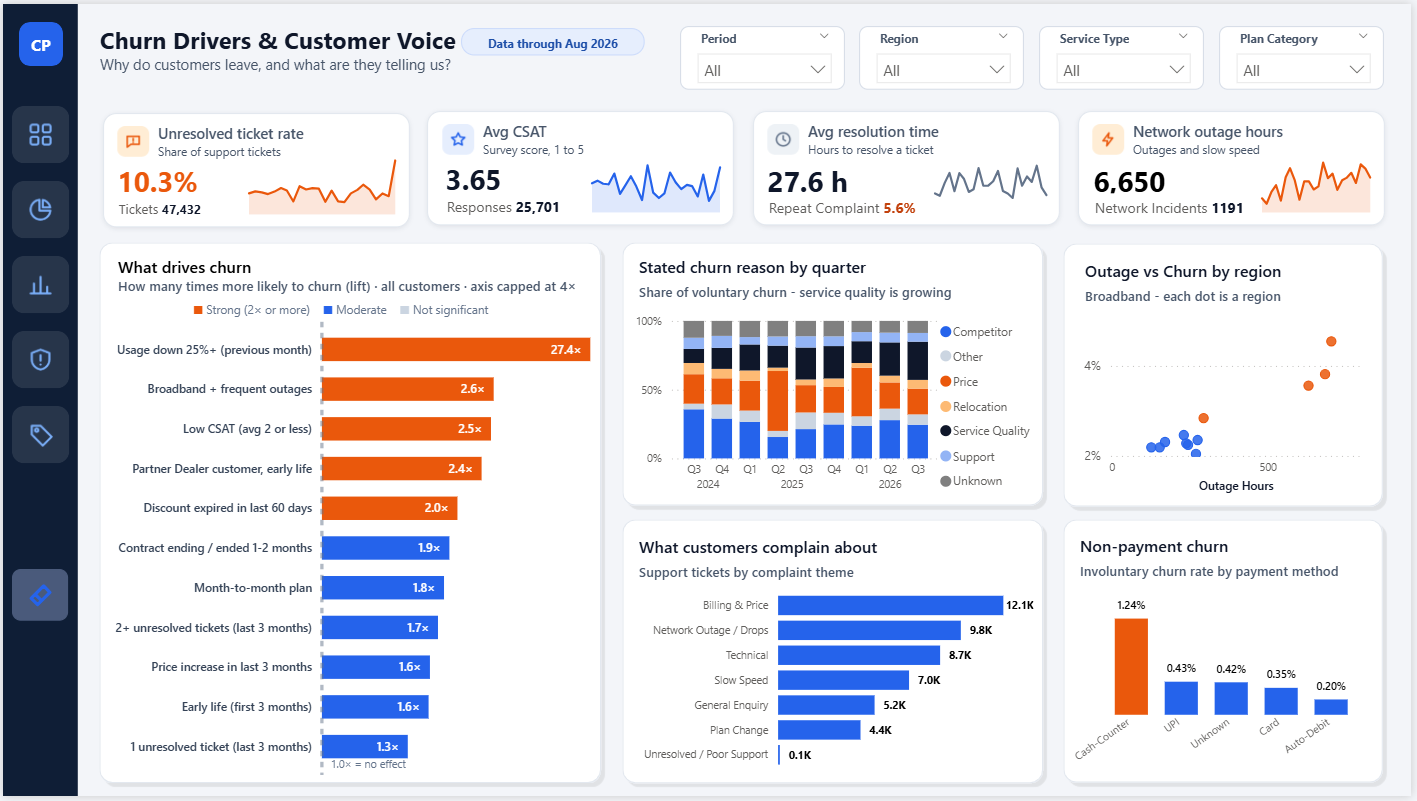

What the dashboard file says about the page in this screenshot:
{"tool":"powerbi","page":{"name":"Drivers","canvas":[1280,720],"ordinal":2},"visuals":[{"type":"group","id":"g1","title":"Group 3","box":[0,0,68,720],"z":0,"group":"g22"},{"type":"shape","box":[0,0,68,720],"z":0,"group":"g1"},{"type":"group","id":"g2","title":"Group 8","box":[557,211,394,251],"z":0,"group":"g17"},{"type":"group","id":"g3","title":"Group 8","box":[81.9,211.2,467.7,503.1],"z":0,"group":"g15"},{"type":"group","id":"g4","title":"Group 8","box":[958,212,302,251],"z":0,"group":"g19"},{"type":"group","id":"g5","title":"Group 8","box":[958.2,462.7,302,251],"z":0,"group":"g20"},{"type":"group","id":"g6","title":"Group 8","box":[557,463,394.1,251.5],"z":0,"group":"g16"},{"type":"shape","box":[14,16,40,40],"z":1000,"group":"g10"},{"type":"group","id":"g7","title":"Group 11","box":[88,17.9,495,50.3],"z":1000},{"type":"textbox","title":"Churn Drivers & Customer Voice","box":[88,17.9,328.2,30],"z":1000,"group":"g7"},{"type":"textbox","title":"What drives churn","box":[104.2,228.3,420,35.6],"z":1000,"group":"g15"},{"type":"slicer","fields":{"Values":["Customer_Priority.risk_band"]},"box":[615,20,150,58],"z":2000},{"type":"textbox","title":"Why do customers leave, and what are they telling us?","box":[88.2,46.4,380,21.8],"z":2000,"group":"g7"},{"type":"actionButton","box":[8,92,52,52],"z":2000,"group":"g9"},{"type":"textbox","title":"Stated churn reason by quater","box":[577.9,228.6,320,45],"z":2000,"group":"g17"},{"type":"clusteredBarChart","fields":{"Category":["Churn_Drivers.driver"],"Y":["_Measures.Driver Lift"]},"box":[101,281,433,420],"z":2000,"group":"g15"},{"type":"slicer","fields":{"Values":["Customer_Priority.region_name"]},"box":[778.4,20,150,58],"z":3000},{"type":"cardVisual","fields":{"Data":["_Measures.Badge Text"]},"box":[415.7,21.1,167.3,24.5],"z":3000,"group":"g7"},{"type":"actionButton","box":[8,160.2,52,52],"z":3000,"group":"g9"},{"type":"shape","box":[557,211,394,251],"z":3000,"group":"g2"},{"type":"shape","box":[81.9,211.2,467.7,503.1],"z":3000,"group":"g3"},{"type":"shape","box":[958,212,302,251],"z":3000,"group":"g4"},{"type":"textbox","title":"Outage vs Churn by region","box":[983,232,222.1,42.1],"z":3000,"group":"g19"},{"type":"shape","box":[958.2,462.7,302,251],"z":3000,"group":"g5"},{"type":"shape","box":[557,463,394.1,251.5],"z":3000,"group":"g6"},{"type":"textbox","title":"Non-payment churn","box":[978.8,481.4,241.5,43.1],"z":3000,"group":"g20"},{"type":"textbox","title":"What customers complain about","box":[577.7,483.1,320,45.4],"z":3000,"group":"g16"},{"type":"slicer","fields":{"Values":["Customer_Priority.service_type"]},"box":[941.9,20,150,58],"z":4000},{"type":"actionButton","box":[8,228.5,52,52],"z":4000,"group":"g9"},{"type":"hundredPercentStackedColumnChart","fields":{"Category":["Dim_Date.year_number","Dim_Date.quarter_label"],"Y":["_Measures.Churn Events"],"Series":["Dim_Churn_Reason.reason_category"]},"box":[574,279,368,172],"z":4000,"group":"g17"},{"type":"slicer","fields":{"Values":["Customer_Priority.plan_category"]},"box":[1105.3,20,150,58],"z":5000},{"type":"actionButton","box":[8,296.8,52,52],"z":5000,"group":"g9"},{"type":"group","id":"g8","title":"Group 4","box":[87.9,99.3,281.4,108.6],"z":6000},{"type":"actionButton","box":[8,365,52,52],"z":6000,"group":"g9"},{"type":"group","id":"g9","title":"Group 1","box":[8,92,52,325],"z":6001,"group":"g10"},{"type":"group","id":"g10","title":"Group 2","box":[8,16,52,401],"z":6002,"group":"g1"},{"type":"group","id":"g11","title":"Group 4","box":[385.6,97.3,279,108.7],"z":7000},{"type":"group","id":"g12","title":"Group 4","box":[679,97.1,281.3,108.6],"z":8000},{"type":"group","id":"g13","title":"Group 4","box":[975.3,97.1,280.4,108.7],"z":9000},{"type":"group","id":"g14","title":"Group 6","box":[81.9,211.2,467.7,503.1],"z":10000},{"type":"group","id":"g15","title":"Group 5","box":[81.9,211.2,467.7,503.1],"z":10000,"group":"g14"},{"type":"textbox","box":[173.1,270.6,278.8,21.2],"z":11000,"group":"g14"},{"type":"group","id":"g16","title":"Group 9","box":[557,463,394.1,251.5],"z":11000},{"type":"group","id":"g17","title":"Group 7","box":[557,211,394,251],"z":12000},{"type":"group","id":"g18","title":"Group 10","box":[958,212,302,251],"z":13000},{"type":"group","id":"g19","title":"Group 9","box":[958,212,302,251],"z":13000,"group":"g18"},{"type":"group","id":"g20","title":"Group 9","box":[958.2,462.7,302,251],"z":13000,"group":"g21"},{"type":"scatterChart","fields":{"Category":["Dim_Region.region_name"],"X":["_Measures.Broadband Outage Hours"],"Y":["_Measures.Broadband Churn Rate %"]},"box":[982.9,279.3,260,165.7],"z":14000,"group":"g18"},{"type":"group","id":"g21","title":"Group 10","box":[958.2,462.7,302,251],"z":14000},{"type":"clusteredBarChart","fields":{"Category":["Fact_Support_Ticket.complaint_theme"],"Y":["_Measures.Tickets"]},"box":[573.3,501.3,363.3,200],"z":14000,"group":"g16"},{"type":"clusteredColumnChart","fields":{"Category":["Dim_Customers.payment_method"],"Y":["_Measures.Involuntary Churn Rate %"]},"box":[975,529.8,267.7,166.2],"z":14000,"group":"g21"},{"type":"actionButton","box":[8,514,51,47],"z":15000,"group":"g22"},{"type":"group","id":"g22","title":"Group 12","box":[0,0,68,720],"z":15001},{"type":"shape","box":[681.3,97.1,279,104.4],"z":16000,"group":"g12"},{"type":"shape","box":[976.7,97.1,279,104.4],"z":16000,"group":"g13"},{"type":"shape","box":[385.6,97.3,279,104.4],"z":16000,"group":"g11"},{"type":"shape","box":[90.3,99.3,279,104.4],"z":16000,"group":"g8"},{"type":"cardVisual","fields":{"Data":["_Measures.Avg CSAT"]},"box":[386.7,137.1,170,68.8],"z":17000,"group":"g11"},{"type":"cardVisual","fields":{"Data":["_Measures.Avg Resolution Hours"]},"box":[679,139,214.7,66.7],"z":17000,"group":"g12"},{"type":"cardVisual","fields":{"Data":["_Measures.Outage Hours"]},"box":[975.3,139.1,175.8,66.7],"z":17000,"group":"g13"},{"type":"cardVisual","fields":{"Data":["_Measures.Unresolved Rate %"]},"box":[87.9,139.3,119.4,68.8],"z":17000,"group":"g8"},{"type":"image","box":[691.8,109.2,35.2,28.3],"z":18000,"group":"g12"},{"type":"image","box":[987.2,109.2,35.2,28.3],"z":18000,"group":"g13"},{"type":"image","box":[396.1,109.4,35.2,28.3],"z":18000,"group":"g11"},{"type":"image","box":[100.8,111.4,35.2,28.3],"z":18000,"group":"g8"},{"type":"textbox","title":"Avg resolution time","box":[731.8,106.8,137.6,32.1],"z":19000,"group":"g12"},{"type":"textbox","title":"Network outage hours","box":[1027.2,106.8,137.6,32.1],"z":19000,"group":"g13"},{"type":"textbox","title":"Avg CSAT","box":[436.1,107,137.6,32.1],"z":19000,"group":"g11"},{"type":"textbox","title":"Unresolved ticket rate","box":[140.8,109,137.6,32.1],"z":19000,"group":"g8"},{"type":"lineChart","fields":{"Category":["Dim_Date.month_start_date"],"Y":["_Measures.Unresolved Rate %"]},"box":[213.4,114,152.9,77.6],"z":20000,"group":"g8"},{"type":"lineChart","fields":{"Category":["Dim_Date.month_start_date"],"Y":["_Measures.Avg CSAT"]},"box":[525.3,131.8,136.5,57.6],"z":20000,"group":"g11"},{"type":"lineChart","fields":{"Category":["Dim_Date.month_start_date"],"Y":["_Measures.Outage Hours"]},"box":[1134.4,134.5,118.3,55],"z":20000,"group":"g13"},{"type":"lineChart","fields":{"Category":["Dim_Date.month_start_date"],"Y":["_Measures.Avg Resolution Hours"]},"box":[837,135.7,121.3,57.3],"z":20000,"group":"g12"}]}

Visuals, with their boxes on the page's 1280x720 design canvas (x1, y1, x2, y2). These are canvas units, not pixel positions in the 1417x801 screenshot, which may show the page scaled, cropped or inside an application window:
"Group 3" group: bbox(0, 0, 68, 720)
shape: bbox(0, 0, 68, 720)
"Group 8" group: bbox(557, 211, 951, 462)
"Group 8" group: bbox(82, 211, 550, 714)
"Group 8" group: bbox(958, 212, 1260, 463)
"Group 8" group: bbox(958, 463, 1260, 714)
"Group 8" group: bbox(557, 463, 951, 714)
shape: bbox(14, 16, 54, 56)
"Group 11" group: bbox(88, 18, 583, 68)
"Churn Drivers & Customer Voice" textbox: bbox(88, 18, 416, 48)
"What drives churn" textbox: bbox(104, 228, 524, 264)
slicer - Customer_Priority.risk_band: bbox(615, 20, 765, 78)
"Why do customers leave, and what are they telling us?" textbox: bbox(88, 46, 468, 68)
actionButton: bbox(8, 92, 60, 144)
"Stated churn reason by quater" textbox: bbox(578, 229, 898, 274)
clusteredBarChart - Churn_Drivers.driver x _Measures.Driver Lift: bbox(101, 281, 534, 701)
slicer - Customer_Priority.region_name: bbox(778, 20, 928, 78)
cardVisual - _Measures.Badge Text: bbox(416, 21, 583, 46)
actionButton: bbox(8, 160, 60, 212)
shape: bbox(557, 211, 951, 462)
shape: bbox(82, 211, 550, 714)
shape: bbox(958, 212, 1260, 463)
"Outage vs Churn by region" textbox: bbox(983, 232, 1205, 274)
shape: bbox(958, 463, 1260, 714)
shape: bbox(557, 463, 951, 714)
"Non-payment churn" textbox: bbox(979, 481, 1220, 524)
"What customers complain about" textbox: bbox(578, 483, 898, 528)
slicer - Customer_Priority.service_type: bbox(942, 20, 1092, 78)
actionButton: bbox(8, 228, 60, 280)
hundredPercentStackedColumnChart - Dim_Date.year_number x Dim_Date.quarter_label: bbox(574, 279, 942, 451)
slicer - Customer_Priority.plan_category: bbox(1105, 20, 1255, 78)
actionButton: bbox(8, 297, 60, 349)
"Group 4" group: bbox(88, 99, 369, 208)
actionButton: bbox(8, 365, 60, 417)
"Group 1" group: bbox(8, 92, 60, 417)
"Group 2" group: bbox(8, 16, 60, 417)
"Group 4" group: bbox(386, 97, 665, 206)
"Group 4" group: bbox(679, 97, 960, 206)
"Group 4" group: bbox(975, 97, 1256, 206)
"Group 6" group: bbox(82, 211, 550, 714)
"Group 5" group: bbox(82, 211, 550, 714)
textbox: bbox(173, 271, 452, 292)
"Group 9" group: bbox(557, 463, 951, 714)
"Group 7" group: bbox(557, 211, 951, 462)
"Group 10" group: bbox(958, 212, 1260, 463)
"Group 9" group: bbox(958, 212, 1260, 463)
"Group 9" group: bbox(958, 463, 1260, 714)
scatterChart - Dim_Region.region_name x _Measures.Broadband Outage Hours: bbox(983, 279, 1243, 445)
"Group 10" group: bbox(958, 463, 1260, 714)
clusteredBarChart - Fact_Support_Ticket.complaint_theme x _Measures.Tickets: bbox(573, 501, 937, 701)
clusteredColumnChart - Dim_Customers.payment_method x _Measures.Involuntary Churn Rate %: bbox(975, 530, 1243, 696)
actionButton: bbox(8, 514, 59, 561)
"Group 12" group: bbox(0, 0, 68, 720)
shape: bbox(681, 97, 960, 202)
shape: bbox(977, 97, 1256, 202)
shape: bbox(386, 97, 665, 202)
shape: bbox(90, 99, 369, 204)
cardVisual - _Measures.Avg CSAT: bbox(387, 137, 557, 206)
cardVisual - _Measures.Avg Resolution Hours: bbox(679, 139, 894, 206)
cardVisual - _Measures.Outage Hours: bbox(975, 139, 1151, 206)
cardVisual - _Measures.Unresolved Rate %: bbox(88, 139, 207, 208)
image: bbox(692, 109, 727, 138)
image: bbox(987, 109, 1022, 138)
image: bbox(396, 109, 431, 138)
image: bbox(101, 111, 136, 140)
"Avg resolution time" textbox: bbox(732, 107, 869, 139)
"Network outage hours" textbox: bbox(1027, 107, 1165, 139)
"Avg CSAT" textbox: bbox(436, 107, 574, 139)
"Unresolved ticket rate" textbox: bbox(141, 109, 278, 141)
lineChart - Dim_Date.month_start_date x _Measures.Unresolved Rate %: bbox(213, 114, 366, 192)
lineChart - Dim_Date.month_start_date x _Measures.Avg CSAT: bbox(525, 132, 662, 189)
lineChart - Dim_Date.month_start_date x _Measures.Outage Hours: bbox(1134, 134, 1253, 190)
lineChart - Dim_Date.month_start_date x _Measures.Avg Resolution Hours: bbox(837, 136, 958, 193)
